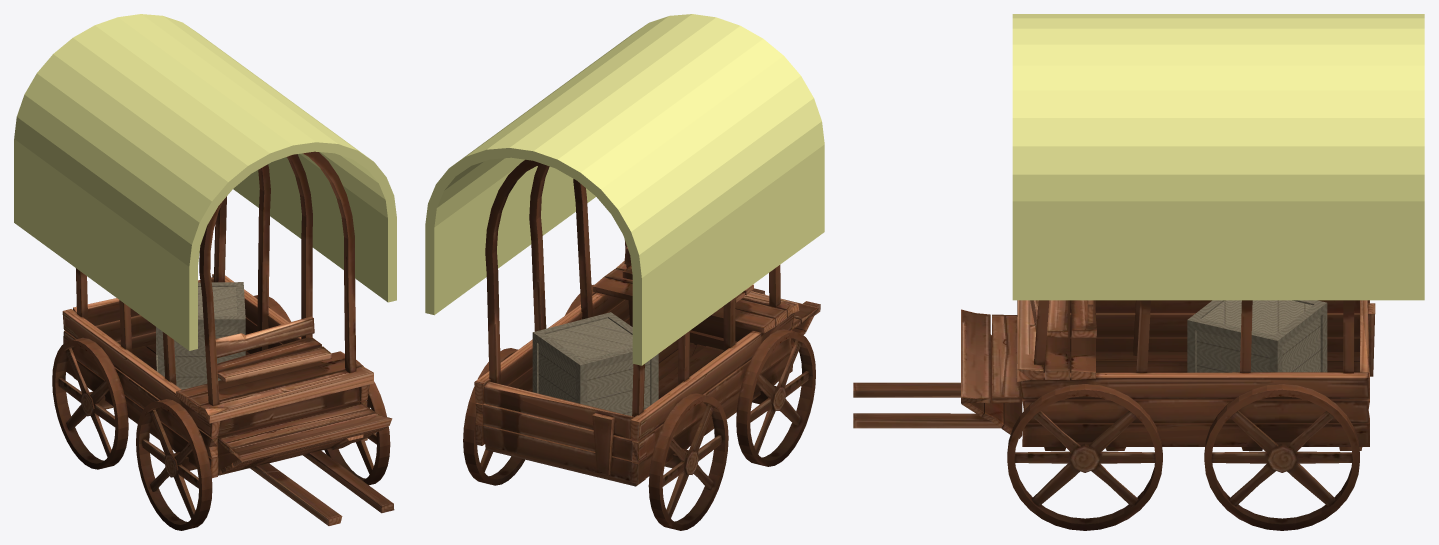
File: opus55_t05.glb
The picture shows the model from 3 angles, left to right: view 1: azimuth 30°, elevation 25°; view 2: azimuth 150°, elevation 25°; view 3: azimuth 270°, elevation 25°; orthographic projection. The views are drawn at different scales.
Visible parts, largest first — view 1: slot_canopy_yellow, slot_anchor_frame, slot_front_wheels, slot_bed_crate; view 2: slot_canopy_yellow, slot_anchor_frame, slot_bed_crate, slot_front_wheels; view 3: slot_canopy_yellow, slot_anchor_frame, slot_front_wheels, slot_bed_crate.
Part boxes in pixels (x1,y1,x2,y2): slot_canopy_yellow: [14, 14, 396, 350]; slot_anchor_frame: [52, 151, 394, 525]; slot_front_wheels: [136, 360, 390, 530]; slot_bed_crate: [156, 282, 245, 389]; slot_canopy_yellow: [425, 14, 824, 365]; slot_anchor_frame: [463, 159, 820, 530]; slot_bed_crate: [532, 312, 658, 416]; slot_front_wheels: [565, 284, 815, 466]; slot_canopy_yellow: [1012, 14, 1424, 300]; slot_anchor_frame: [853, 300, 1375, 530]; slot_front_wheels: [1007, 384, 1162, 530]; slot_bed_crate: [1187, 300, 1327, 372].
Size of the model in its own units: 1.06 by 1.86 by 2.15.
5 materials, 3 textured.
